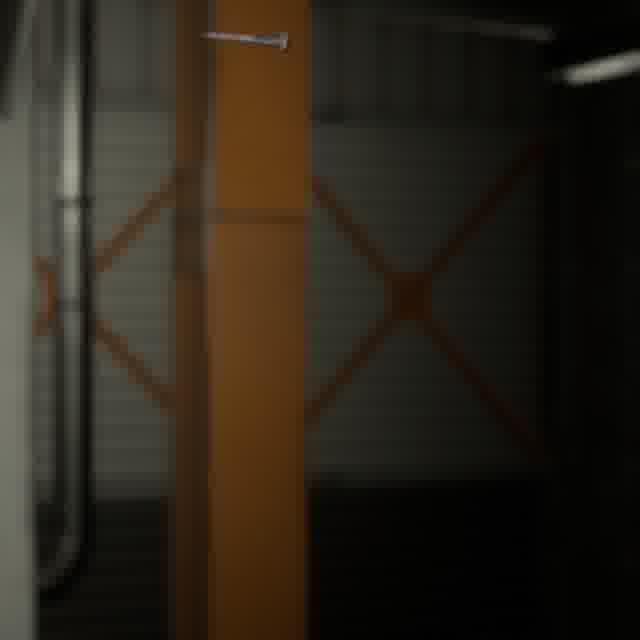bolt: (196, 27, 295, 57)
